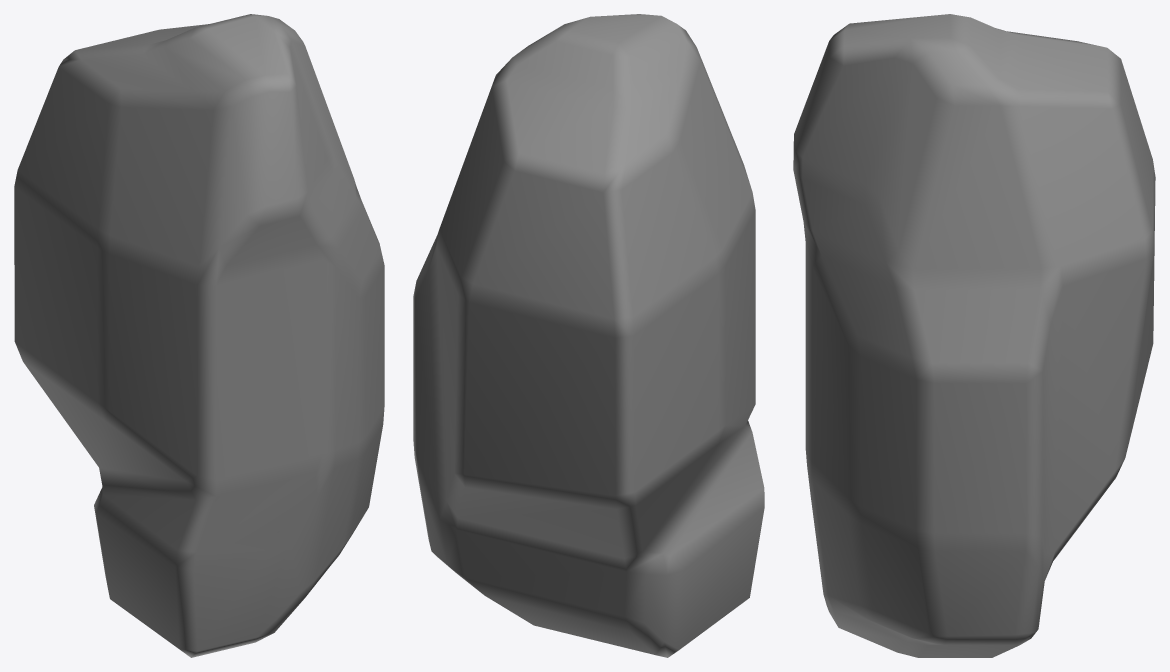
Rendered from SM_rock_modular_B.fbx.
The picture shows the model from 3 angles, left to right: view 1: azimuth 30°, elevation 25°; view 2: azimuth 150°, elevation 25°; view 3: azimuth 270°, elevation 25°; orthographic projection. The views are drawn at different scales.
Visible parts, largest first — view 1: pCube45; view 2: pCube45; view 3: pCube45.
Part boxes in pixels (box(x1,y1,x2,y2)): pCube45: box(14, 14, 384, 657); pCube45: box(413, 14, 764, 657); pCube45: box(793, 14, 1155, 657).
Size of the model in its own units: 897 by 1825 by 973.
